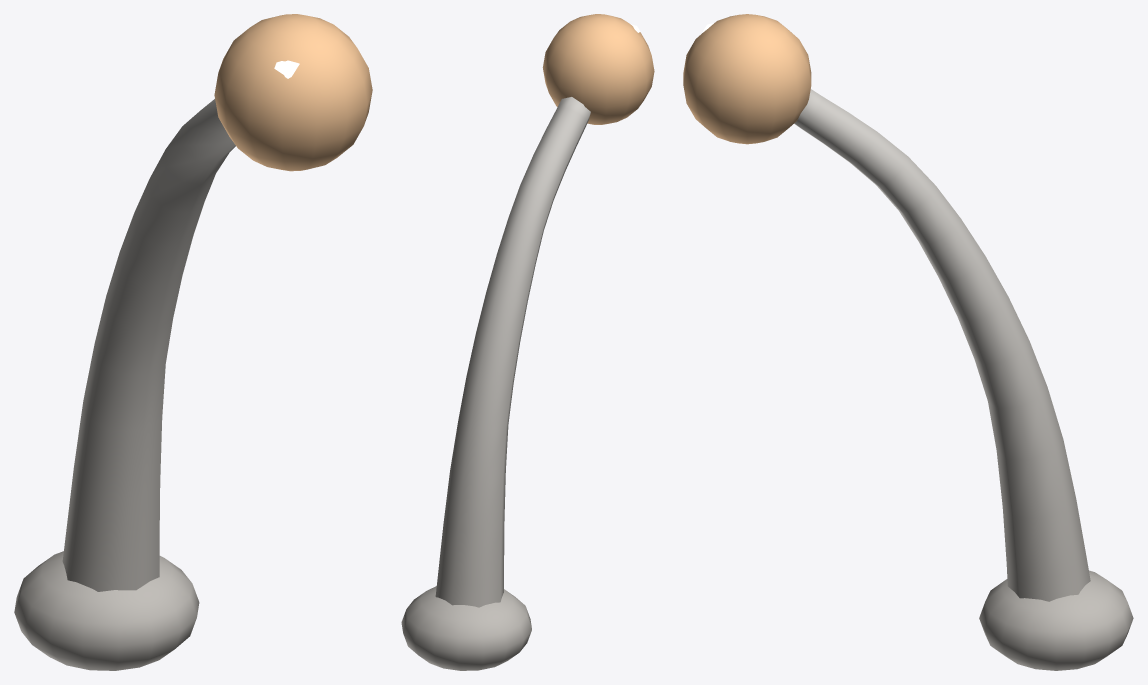
Rendered from part_antenna.glb.
3 views of the same model, side by side, from view 1: azimuth 30°, elevation 25°; view 2: azimuth 150°, elevation 25°; view 3: azimuth 270°, elevation 25° (orthographic). The views are drawn at different scales.
Parts seen in each view (by area): view 1: part_antenna_painted_mesh; view 2: part_antenna_painted_mesh; view 3: part_antenna_painted_mesh.
Part boxes in pixels (x1,y1,x2,y2): part_antenna_painted_mesh: [14, 14, 372, 670]; part_antenna_painted_mesh: [401, 14, 654, 670]; part_antenna_painted_mesh: [683, 14, 1133, 670].
Size of the model in its own units: 0.2 by 0.915 by 0.5829.
